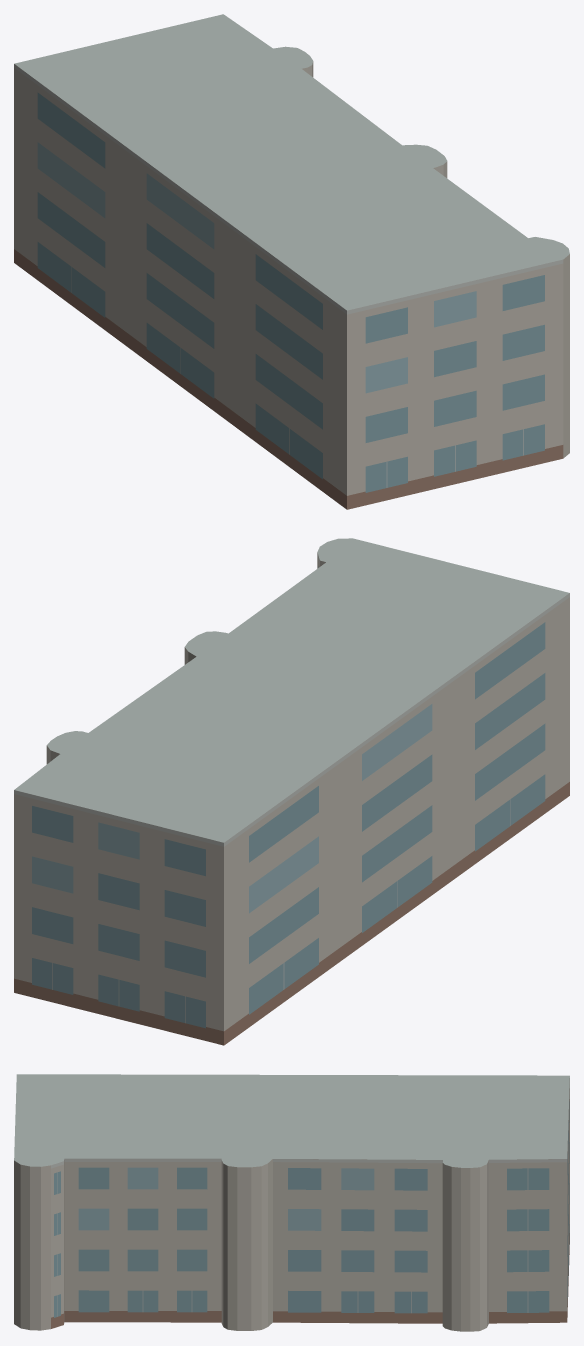
The model's file is survey-upis-32877383.glb.
3 renders of one model, top to bottom at view 1: azimuth 30°, elevation 25°; view 2: azimuth 150°, elevation 25°; view 3: azimuth 270°, elevation 25°, orthographic. The views are drawn at different scales.
Visible parts, largest first — view 1: survey-upis-32877383.tmp; view 2: survey-upis-32877383.tmp; view 3: survey-upis-32877383.tmp.
Part boxes in pixels (x1,y1,x2,y2): survey-upis-32877383.tmp: (14,14,569,509); survey-upis-32877383.tmp: (14,538,569,1045); survey-upis-32877383.tmp: (14,1074,569,1331).
Bounding box in the file's own units: 14.99 × 12.2 × 37.54.
